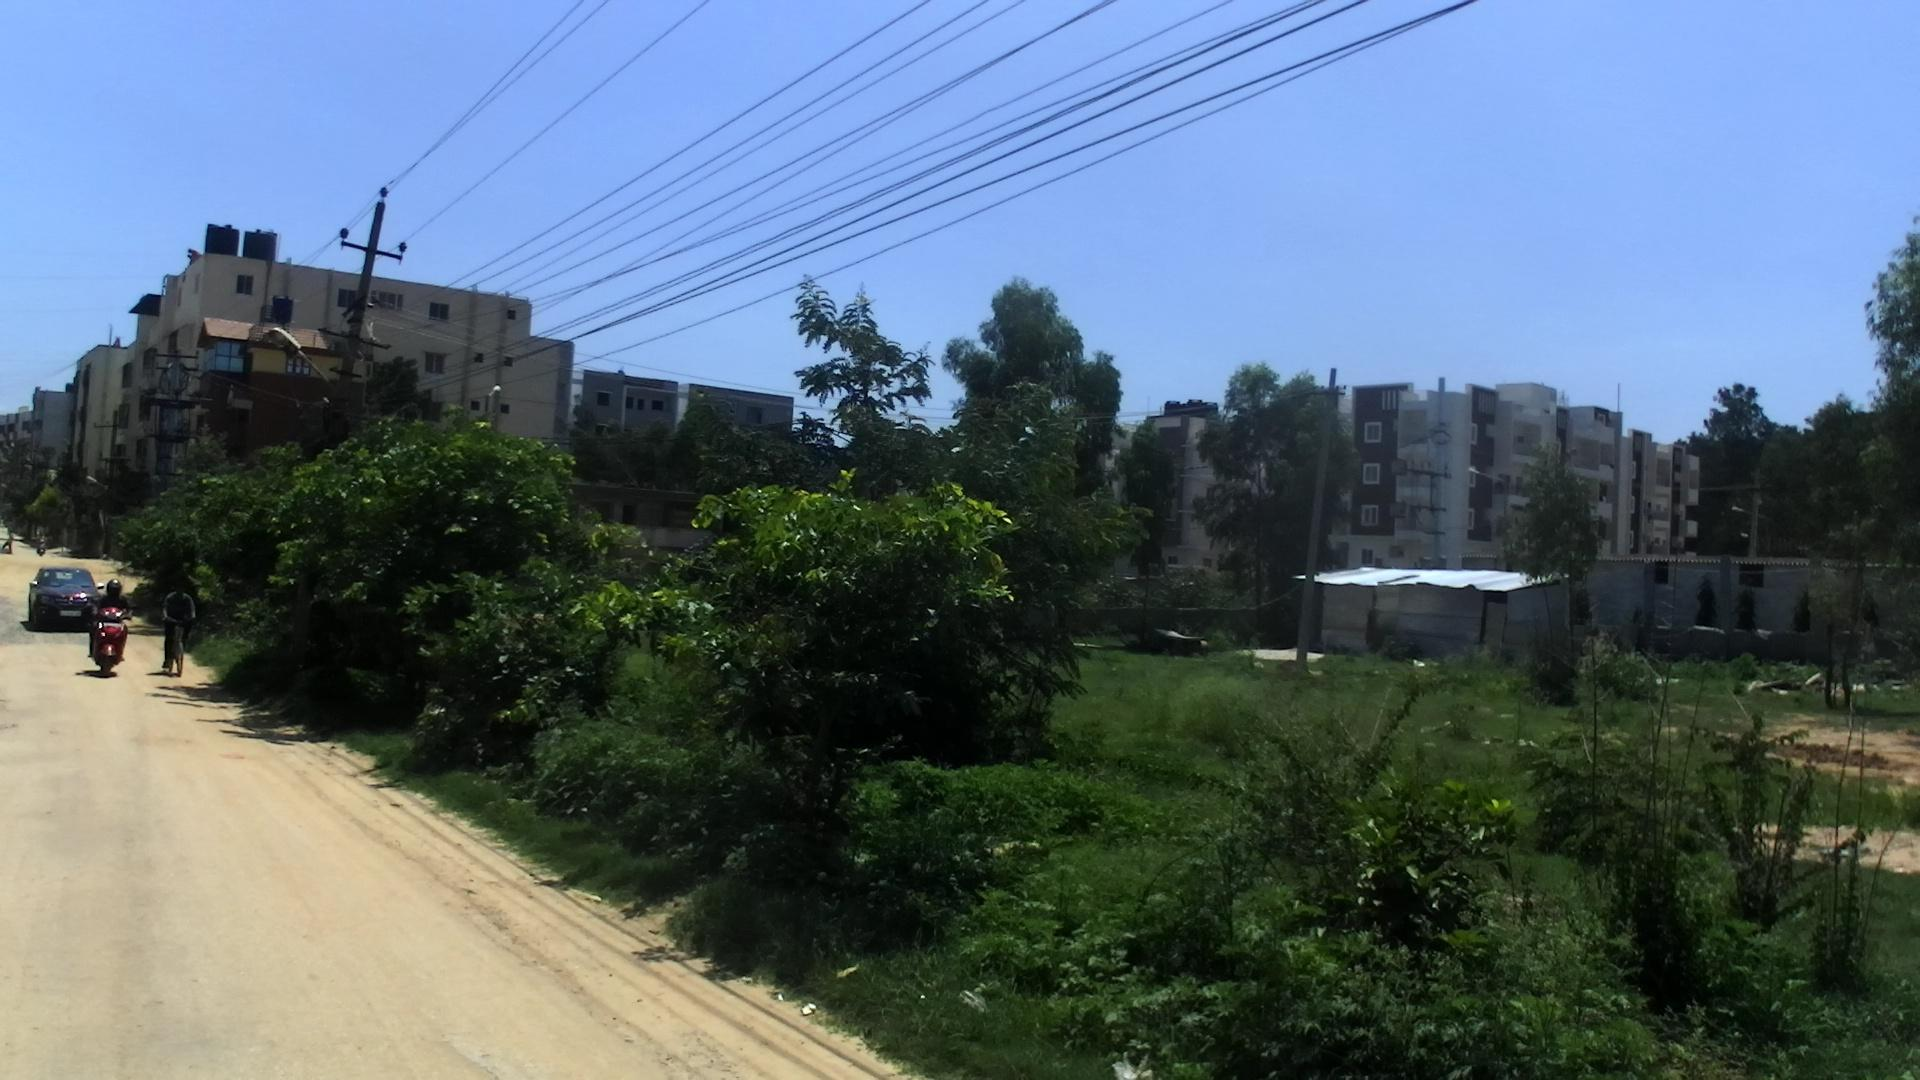off: (0, 0, 1920, 1004)
